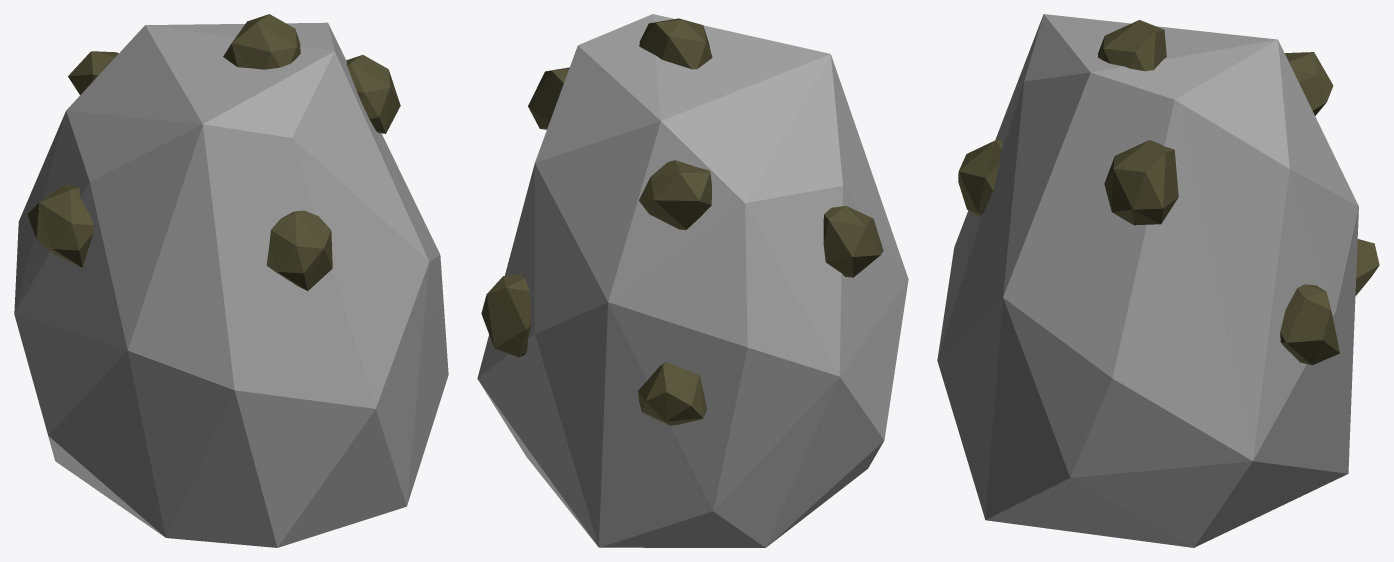
File: ResourceRock.fbx
The picture shows the model from 3 angles, left to right: view 1: azimuth 30°, elevation 25°; view 2: azimuth 150°, elevation 25°; view 3: azimuth 270°, elevation 25°; orthographic projection. The views are drawn at different scales.
Visible parts, largest first — view 1: ResourceRock; view 2: ResourceRock; view 3: ResourceRock.
Part boxes in pixels (box(x1,y1,x2,y2)): ResourceRock: box(14, 14, 448, 547); ResourceRock: box(477, 14, 908, 547); ResourceRock: box(937, 14, 1379, 547).
Size of the model in its own units: 1.94 by 2.2 by 1.9.
